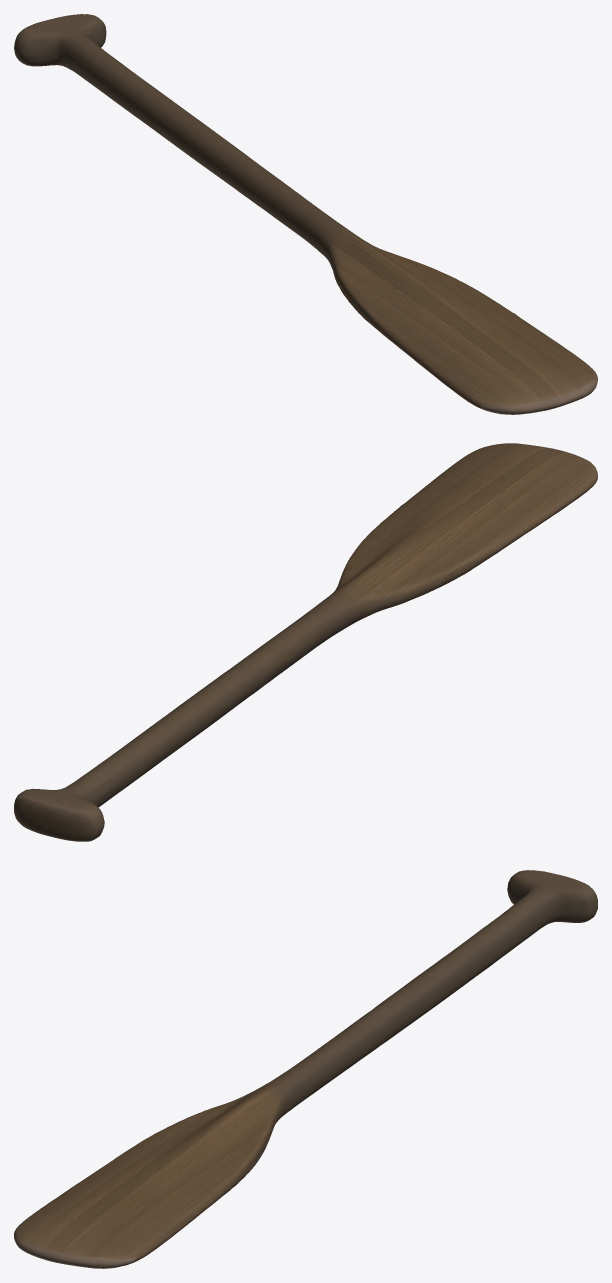
Rendered from Paddle.fbx.
3 views of the same model, one above another, from view 1: azimuth 30°, elevation 25°; view 2: azimuth 150°, elevation 25°; view 3: azimuth 330°, elevation 25° (orthographic).
Parts seen in each view (by area): view 1: Paddle; view 2: Paddle; view 3: Paddle.
Boxes of the visible parts, x1,y1,x2,y2 form: Paddle: [14, 14, 597, 414]; Paddle: [14, 443, 597, 841]; Paddle: [14, 870, 597, 1268].
Bounding box in the file's own units: 27.01 × 7.68 × 191.
